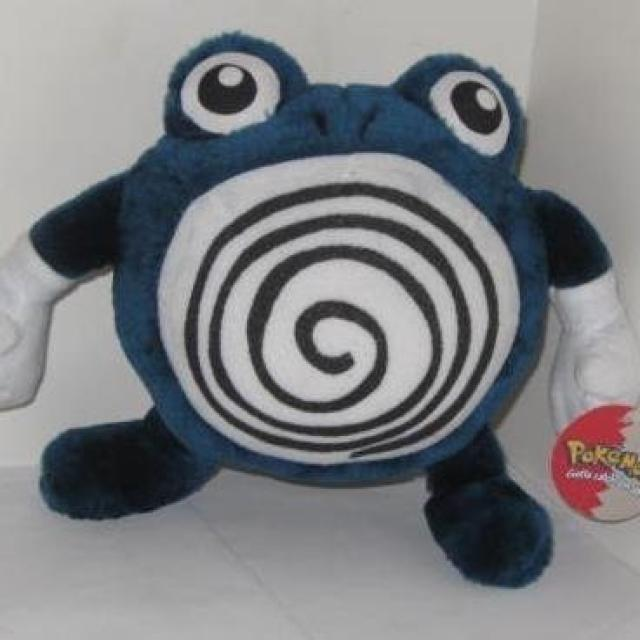Poliwhirl: (28, 39, 592, 514)
